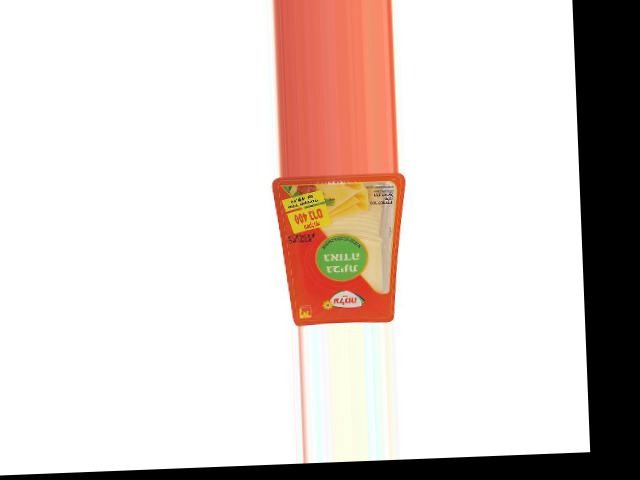cheese: (271, 171, 410, 325)
